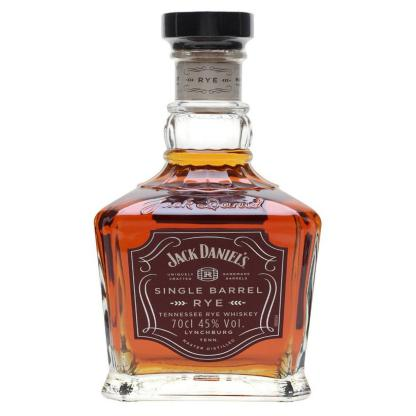alcohol: (93, 2, 321, 400)
